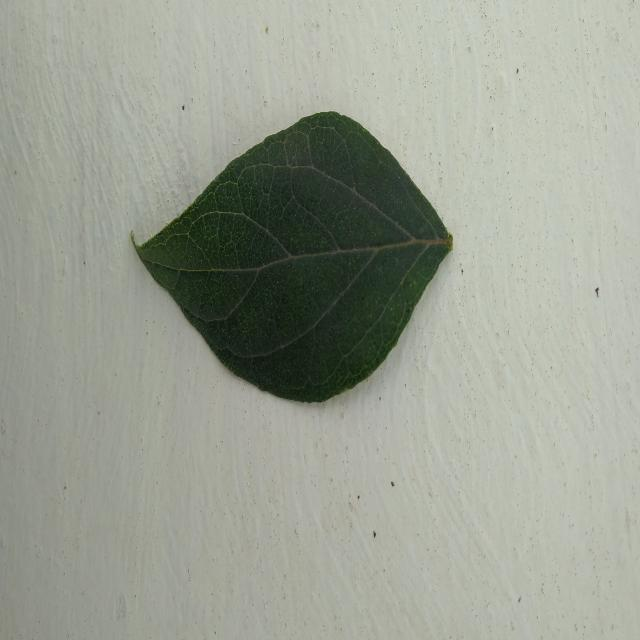Parijatha: (132, 113, 452, 402)
